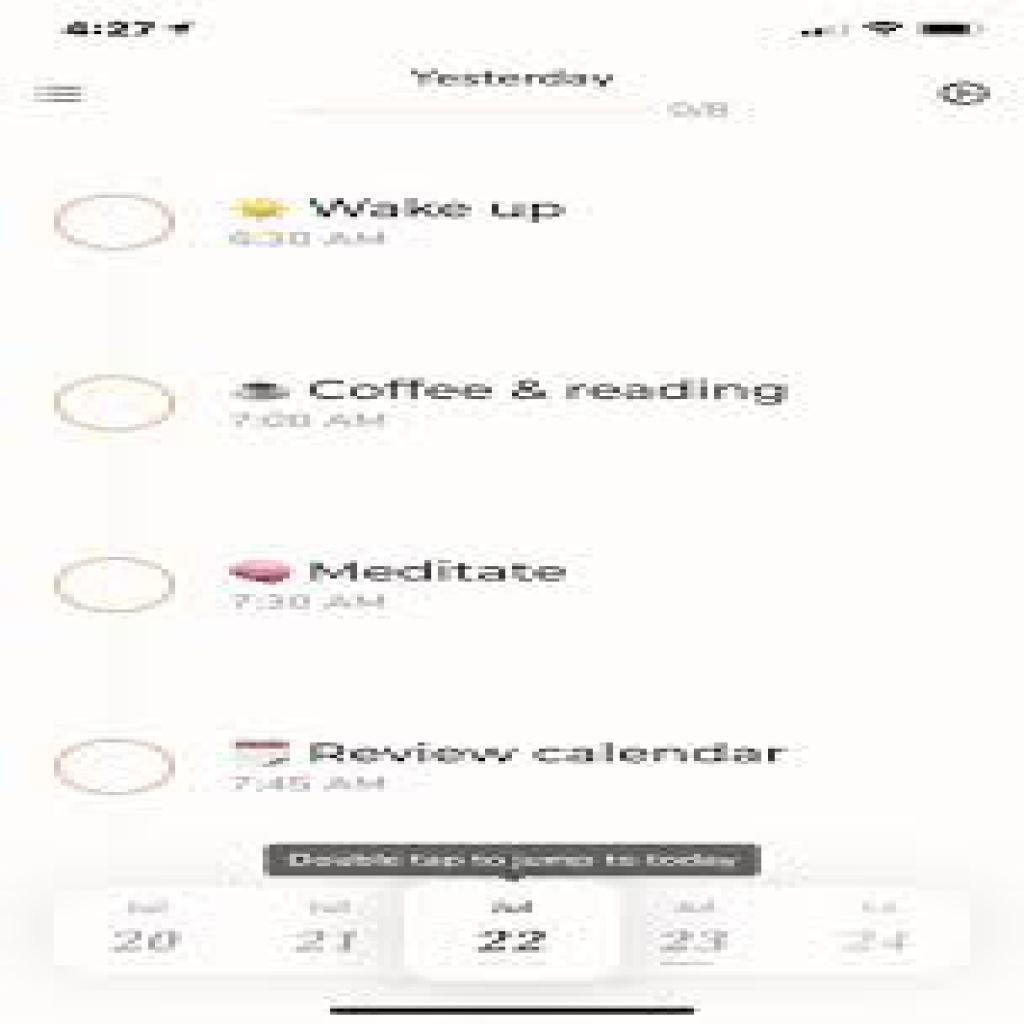radio: (51, 550, 177, 625), (51, 364, 175, 440), (51, 731, 183, 802), (55, 185, 176, 260)
